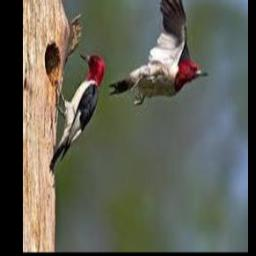Woodpecker: (108, 0, 208, 105), (49, 53, 106, 173)
